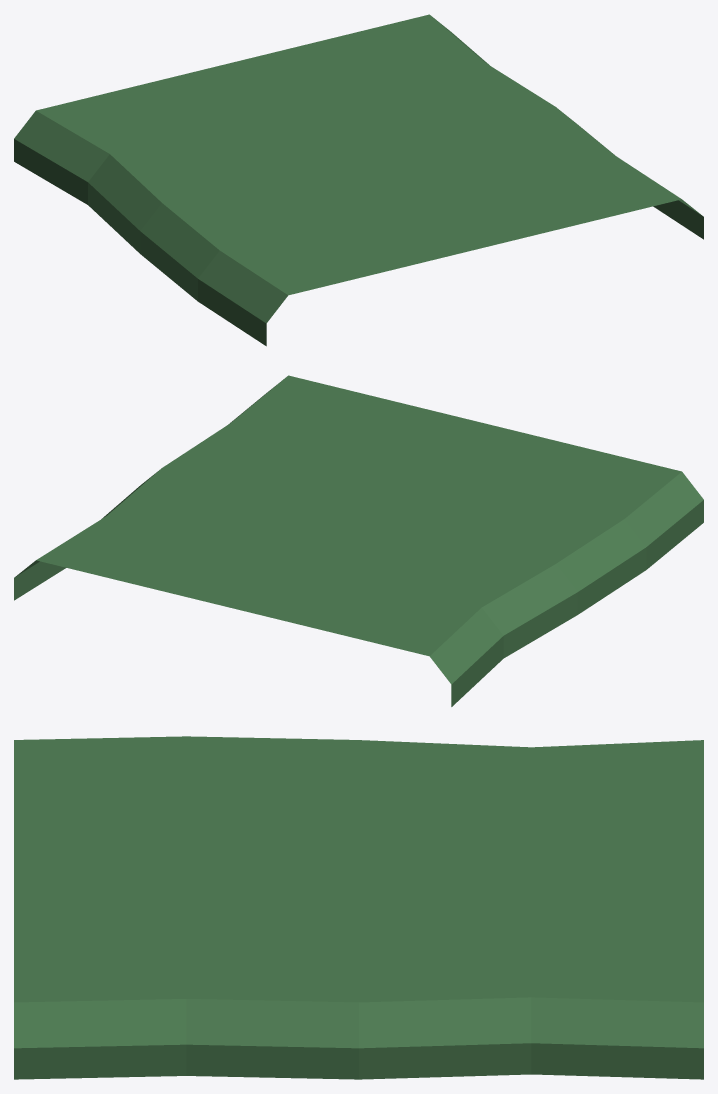
File: Grass_Two_Sides.fbx
3 renders of one model, top to bottom at view 1: azimuth 30°, elevation 25°; view 2: azimuth 150°, elevation 25°; view 3: azimuth 270°, elevation 25°, orthographic. The views are drawn at different scales.
Parts seen in each view (by area): view 1: Grass_Two_Sides; view 2: Grass_Two_Sides; view 3: Grass_Two_Sides.
Part boxes in pixels (box(x1,y1,x2,y2)): Grass_Two_Sides: box(14, 14, 703, 346); Grass_Two_Sides: box(14, 375, 703, 706); Grass_Two_Sides: box(14, 736, 703, 1079).
Bounding box in the file's own units: 1.01 × 0.1 × 1.
